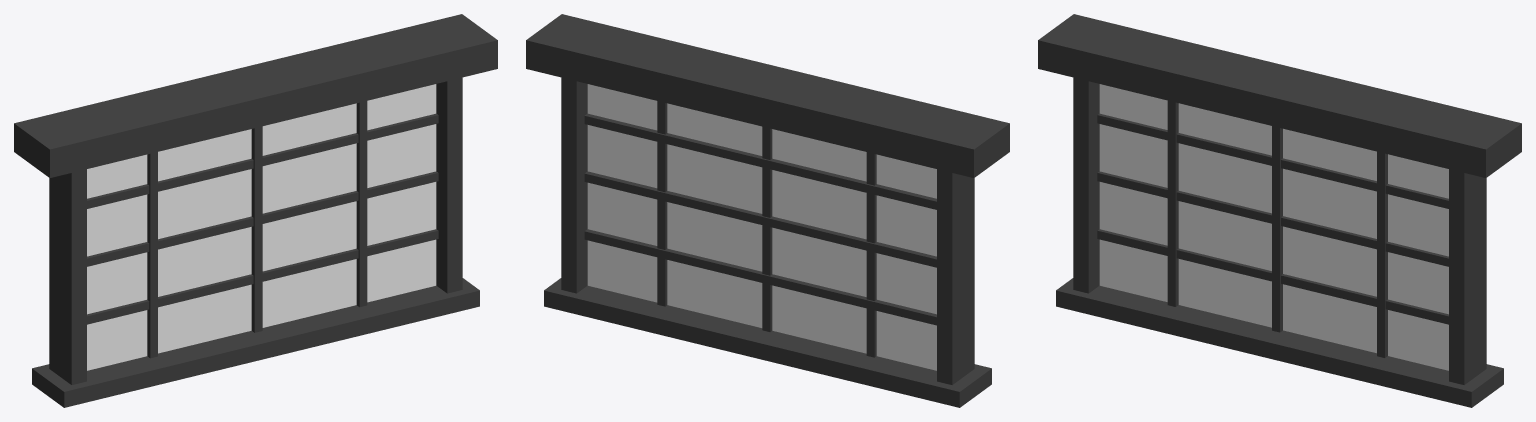
File: window_023.fbx
3 views of the same model, side by side, from view 1: azimuth 30°, elevation 25°; view 2: azimuth 150°, elevation 25°; view 3: azimuth 330°, elevation 25° (orthographic).
Parts seen in each view (by area): view 1: window_023; view 2: window_023; view 3: window_023.
Part boxes in pixels (x1,y1,x2,y2): window_023: (14, 14, 497, 407); window_023: (526, 14, 1009, 407); window_023: (1038, 14, 1521, 407).
Size of the model in its own units: 343 by 47.45 by 193.
